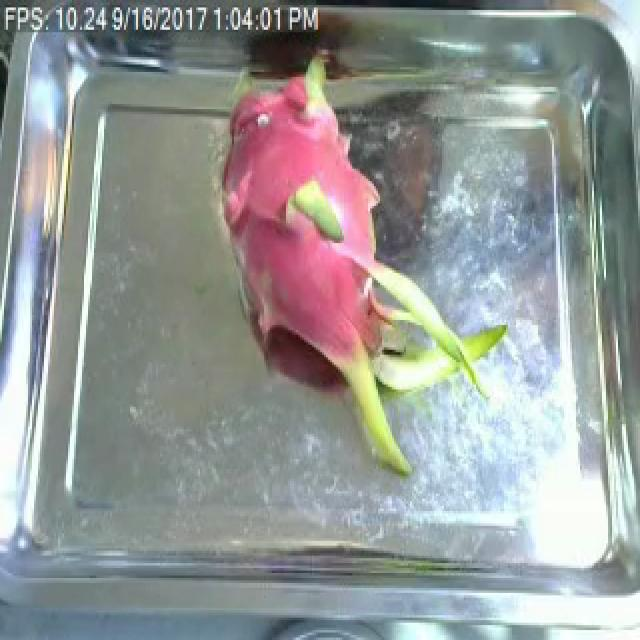fruit: (210, 69, 516, 474)
